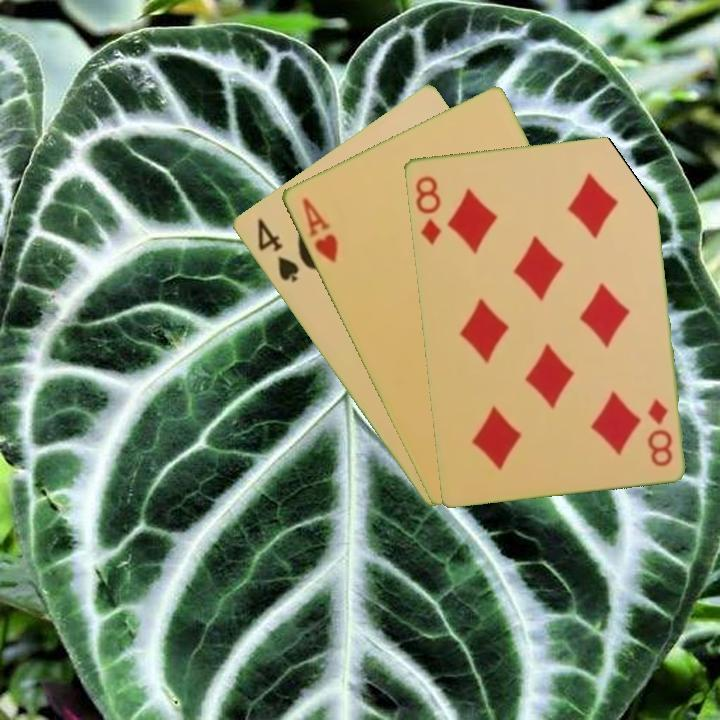4s: (253, 214, 302, 286)
8d: (411, 172, 444, 248), (644, 395, 675, 469)
Ah: (298, 194, 340, 266)
